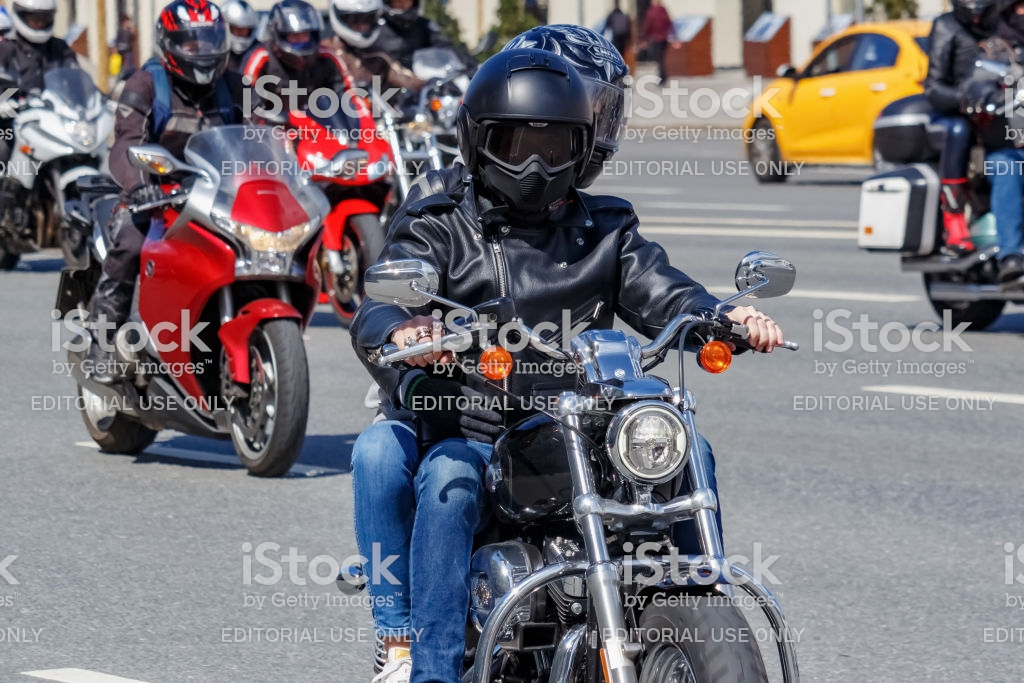helmet: (459, 49, 590, 207), (157, 2, 232, 75), (260, 1, 330, 63)
